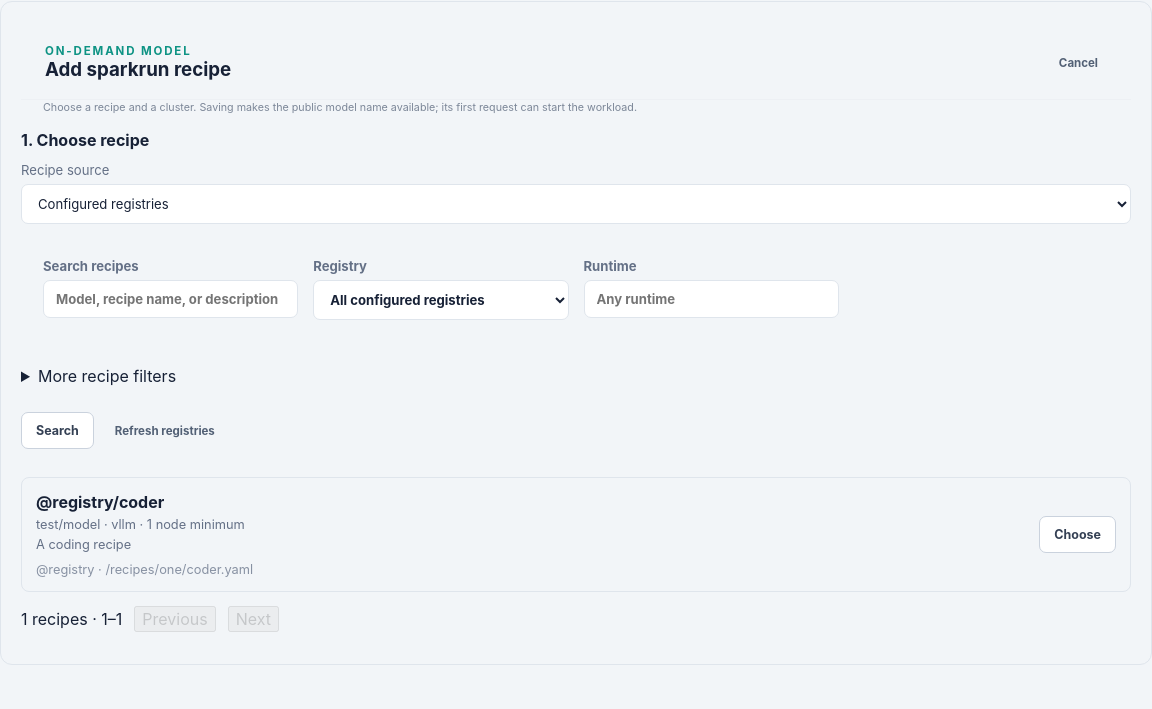
Test: prefills defaults.served_model_name before the HF model
The width and height of the screenshot is (1152, 709).
Click the button with aria-label "Choose @registry/coder".
click(1078, 535)  # box top-left (1039, 516), bottom-right (1116, 553)
(page scrolled)
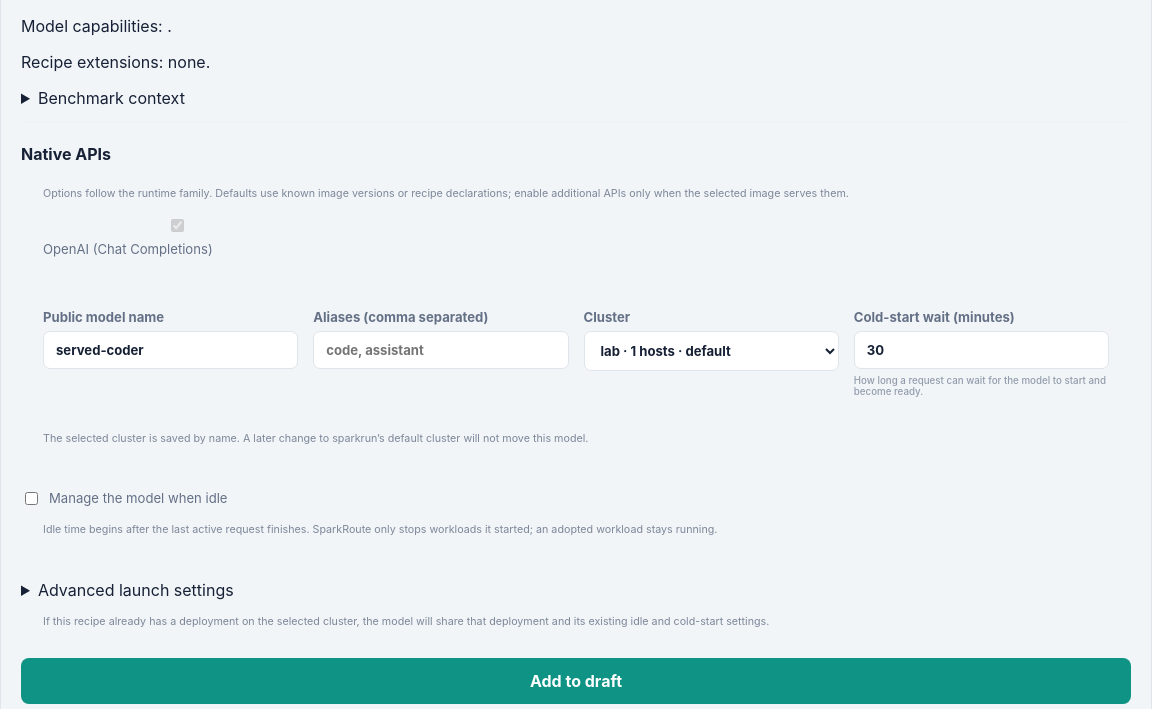
Expected: the field labelled "Public model name" holds "served-coder", top-left (43, 331), bottom-right (298, 369)
